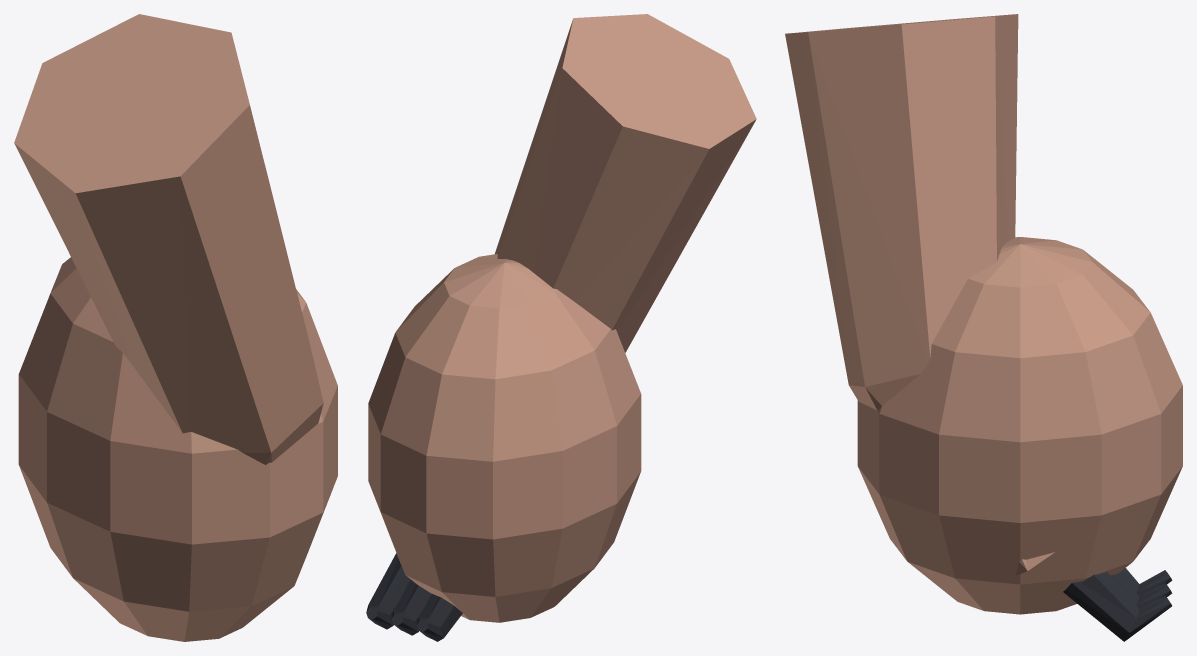
The model's file is gorehulk_b_arm_1.obj.
The picture shows the model from 3 angles, left to right: view 1: azimuth 30°, elevation 25°; view 2: azimuth 150°, elevation 25°; view 3: azimuth 270°, elevation 25°; orthographic projection. The views are drawn at different scales.
Parts seen in each view (by area): view 1: gorehulk_b_arm_1; view 2: gorehulk_b_arm_1; view 3: gorehulk_b_arm_1.
Boxes of the visible parts, <box> form: gorehulk_b_arm_1: <box>14,14,337,641</box>; gorehulk_b_arm_1: <box>366,14,756,641</box>; gorehulk_b_arm_1: <box>785,14,1182,641</box>.
Size of the model in its own units: 0.4612 by 0.8583 by 0.5367.
